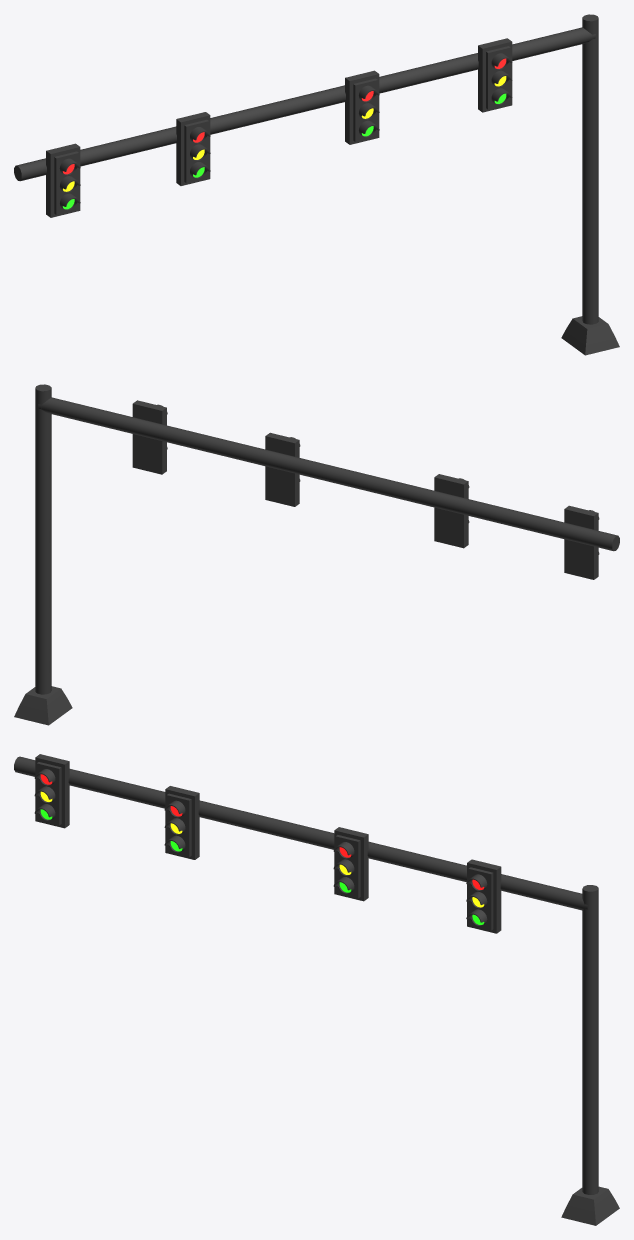
File: Black Traffic Light.fbx
3 views of the same model, one above another, from view 1: azimuth 30°, elevation 25°; view 2: azimuth 150°, elevation 25°; view 3: azimuth 330°, elevation 25° (orthographic).
Visible parts, largest first — view 1: Circle001.001; view 2: Circle001.001; view 3: Circle001.001.
Boxes of the visible parts, <box> form: Circle001.001: <box>14,14,619,355</box>; Circle001.001: <box>14,384,619,725</box>; Circle001.001: <box>14,754,619,1225</box>.
Size of the model in its own units: 444 by 235 by 35.89.
